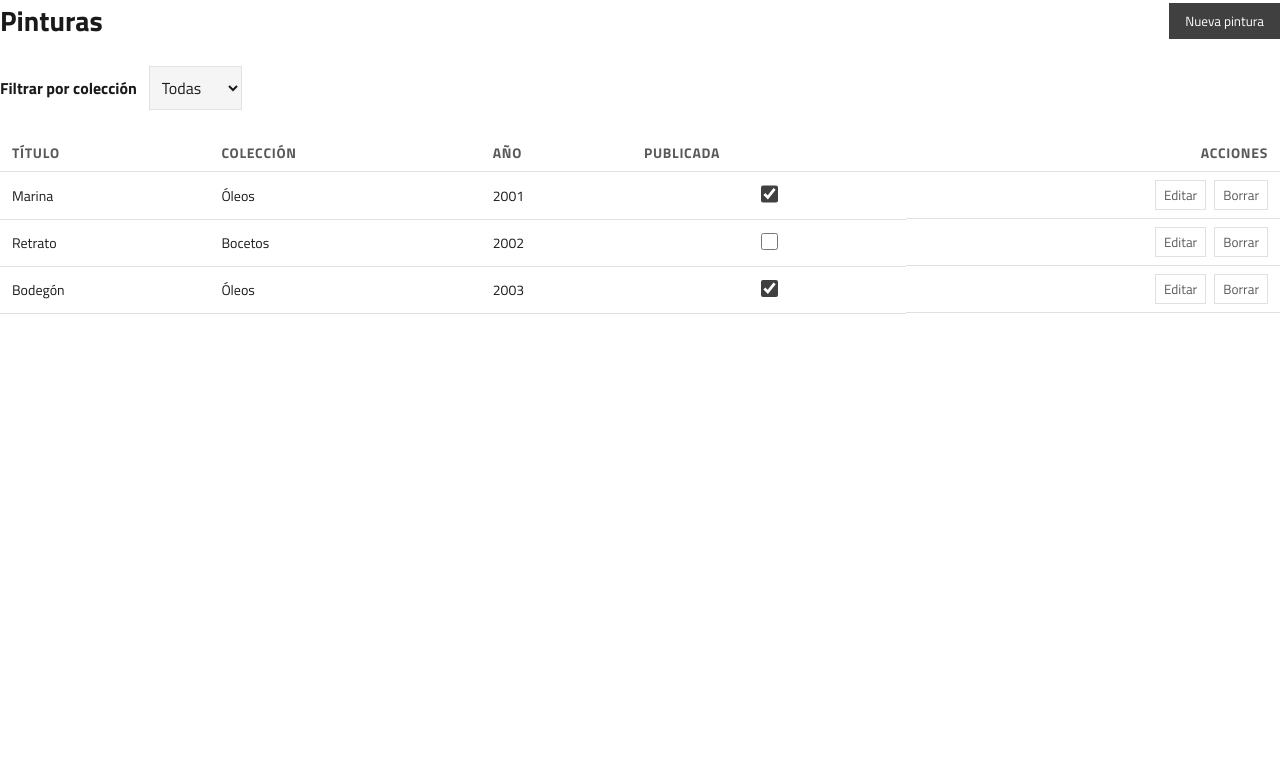
Test: AdminPaintings › valida en cliente título, año y colección antes de enviar
Check: the cell "Marina" is shown, box [0, 172, 209, 219]
Step 1. Click the button "Nueva pintura" → (1225, 21), box [1169, 3, 1279, 39]
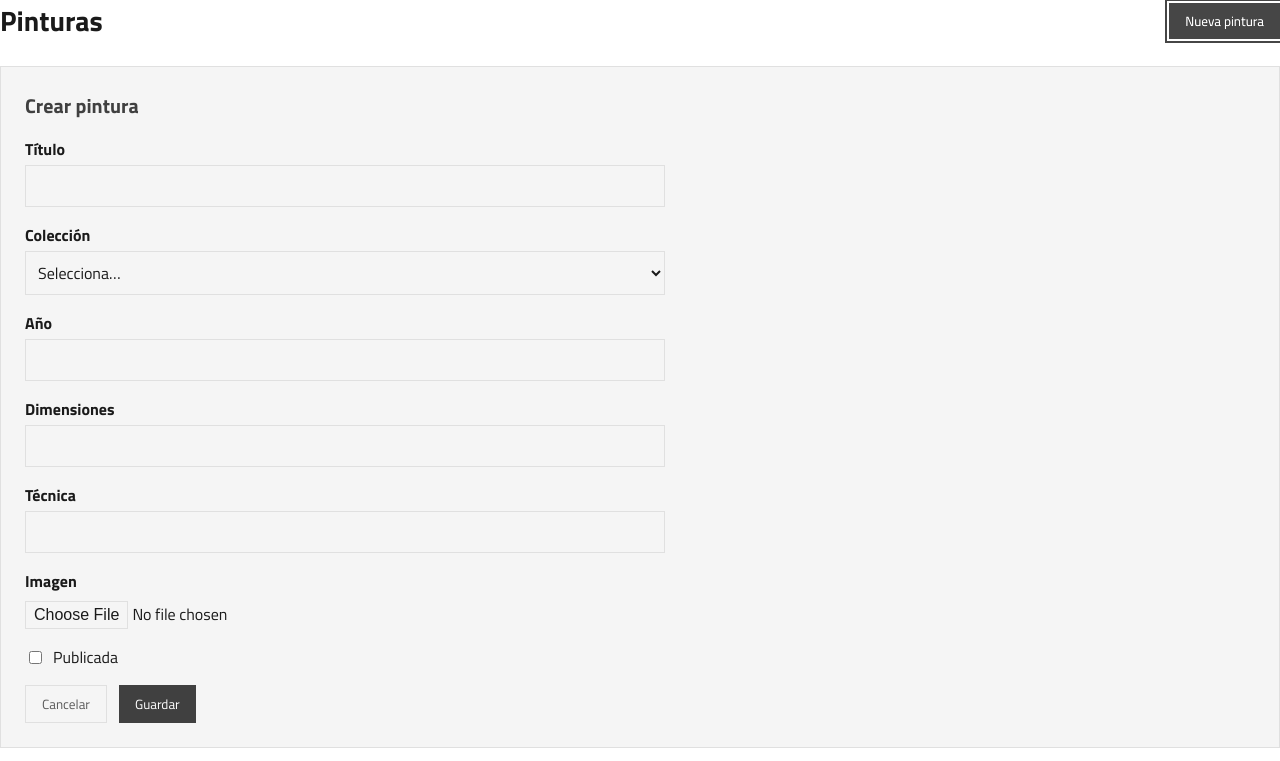
Step 2. Click the button "Guardar" → (157, 704), box [119, 685, 196, 723]
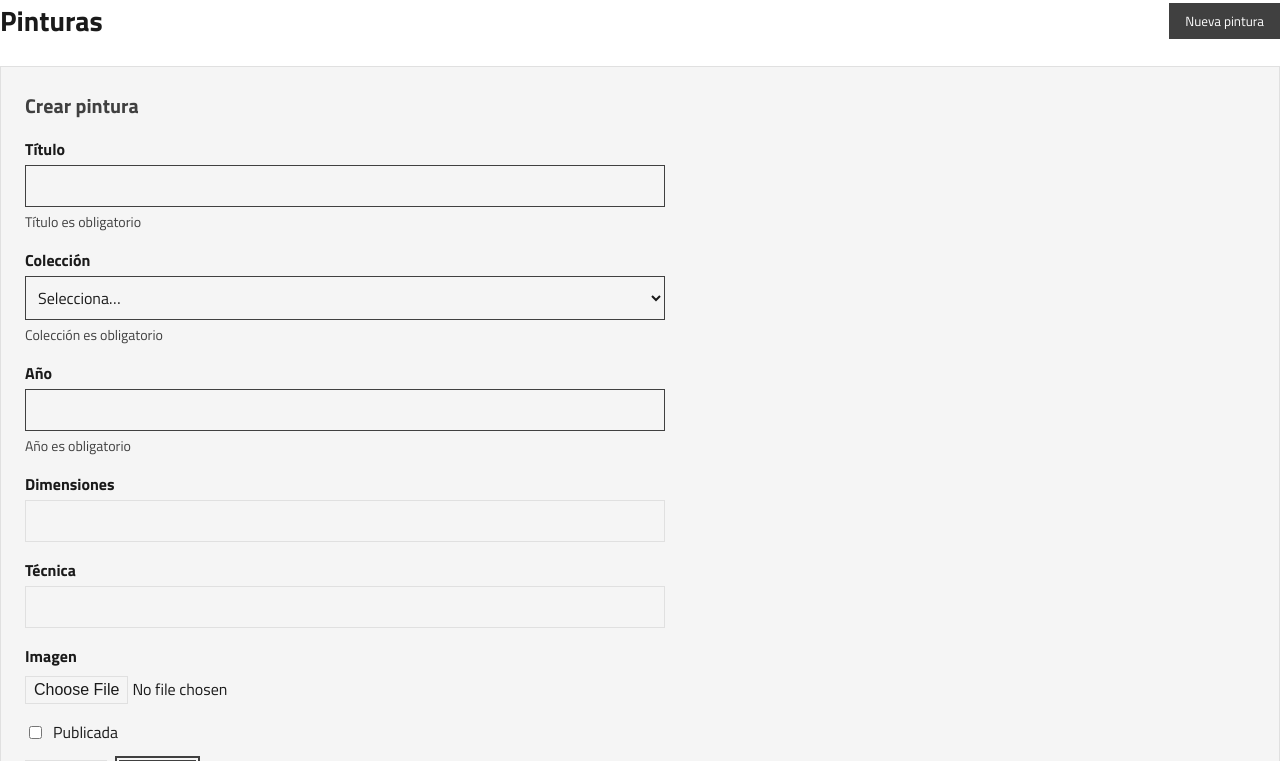
Check: the text "Título es obligatorio" is shown, box [25, 211, 141, 232]
Check: the text "Año es obligatorio" is shown, box [25, 435, 131, 456]
Check: the text "Colección es obligatorio" is shown, box [25, 324, 163, 345]
